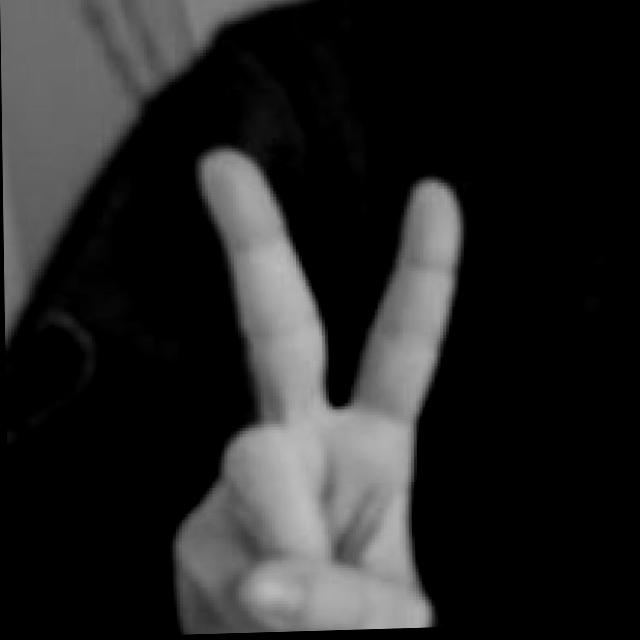V: (157, 129, 494, 635)
